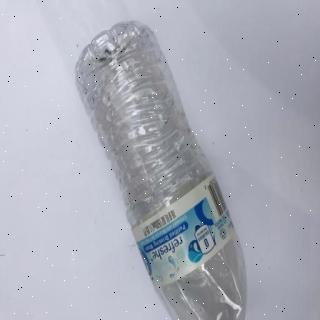Plastic-bottle: (74, 18, 251, 320)
